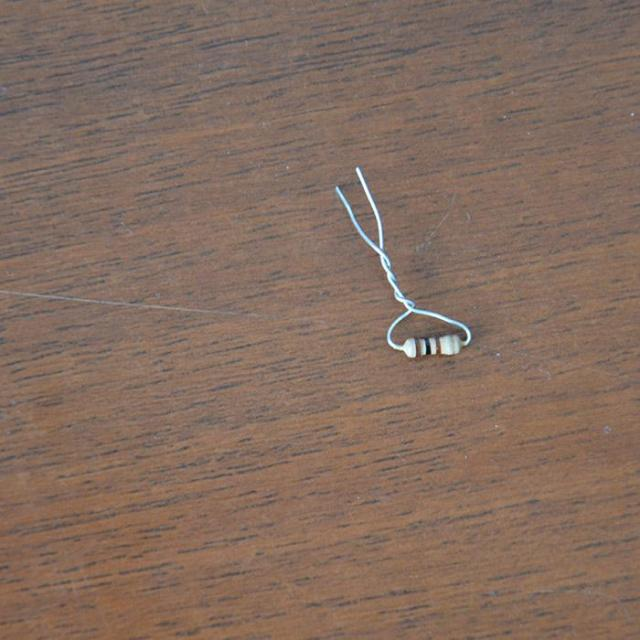Resistor: (401, 335, 462, 357)
black: (427, 339, 432, 355)
brown: (416, 339, 421, 358), (438, 338, 441, 354)
